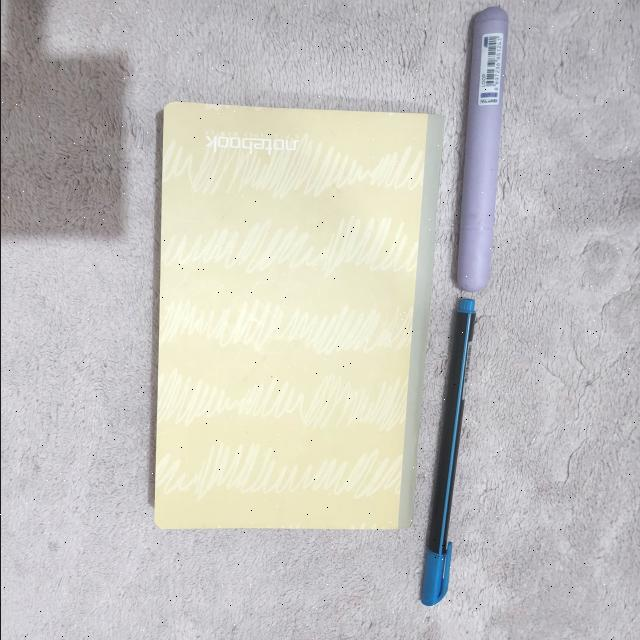defter: (152, 99, 445, 529)
kalem1: (420, 298, 475, 607)
kalem2: (455, 6, 508, 293)
